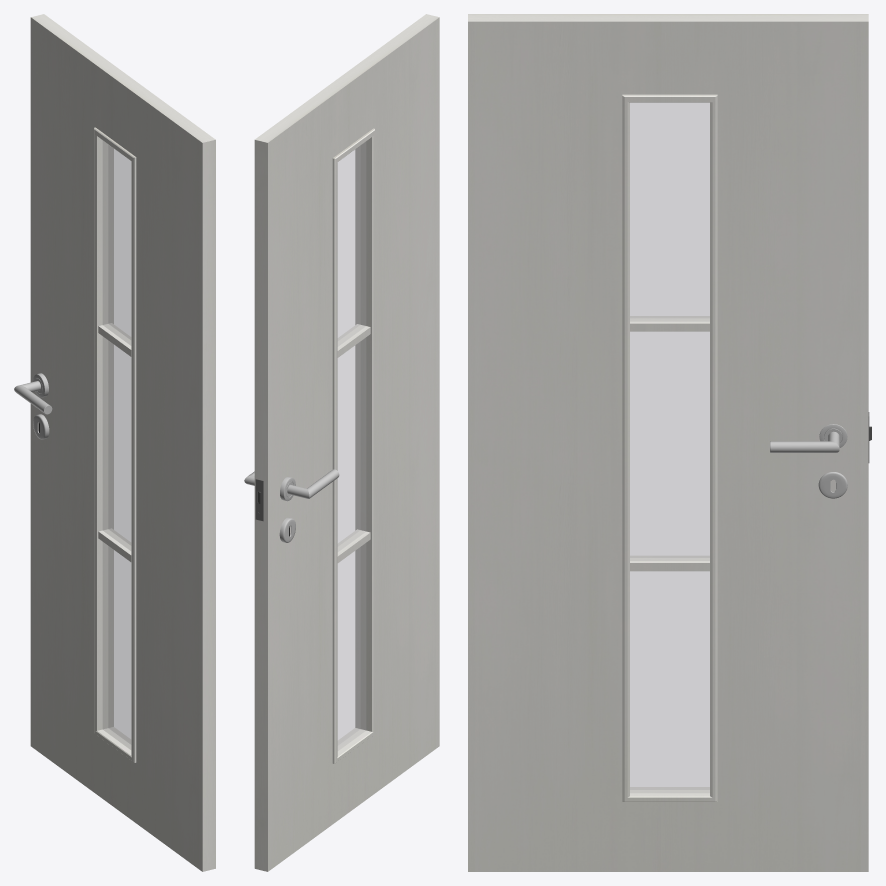
Rendered from door18.glb.
3 renders of one model, left to right at view 1: azimuth 30°, elevation 25°; view 2: azimuth 150°, elevation 25°; view 3: azimuth 270°, elevation 25°, orthographic. The views are drawn at different scales.
Parts seen in each view (by area): view 1: TB-LA2-DQ+SP20, Door_Handle_01; view 2: TB-LA2-DQ+SP20, Door_Handle_01; view 3: TB-LA2-DQ+SP20, Door_Handle_01.
Boxes of the visible parts, x1,y1,x2,y2 form: TB-LA2-DQ+SP20: [30, 14, 215, 871]; Door_Handle_01: [14, 373, 52, 439]; TB-LA2-DQ+SP20: [254, 14, 439, 871]; Door_Handle_01: [244, 469, 339, 542]; TB-LA2-DQ+SP20: [468, 14, 871, 871]; Door_Handle_01: [770, 424, 847, 498].
Size of the model in its own units: 0.1566 by 1.67 by 0.7188.
Materials: 6 (1 with a texture image).
